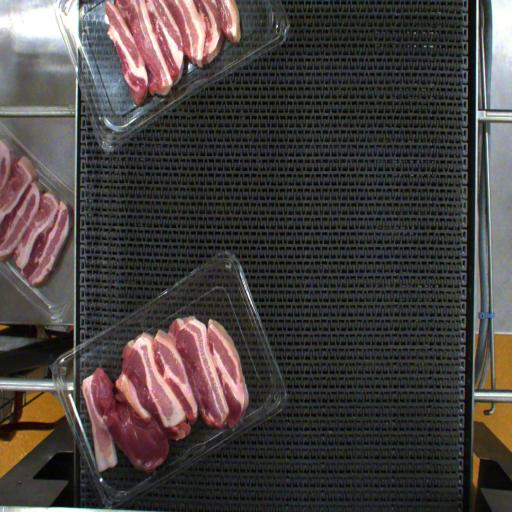packaging-error: (220, 409, 245, 440)
twisted-meat: (88, 380, 155, 470)
